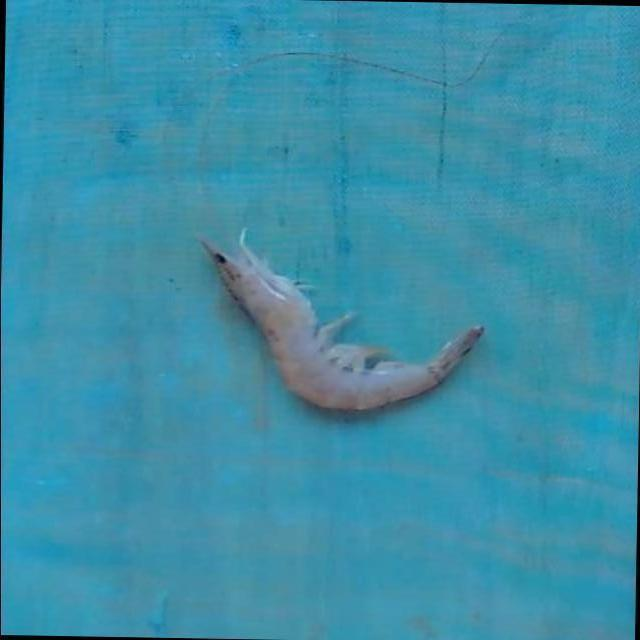shrimp: (201, 239, 483, 409)
